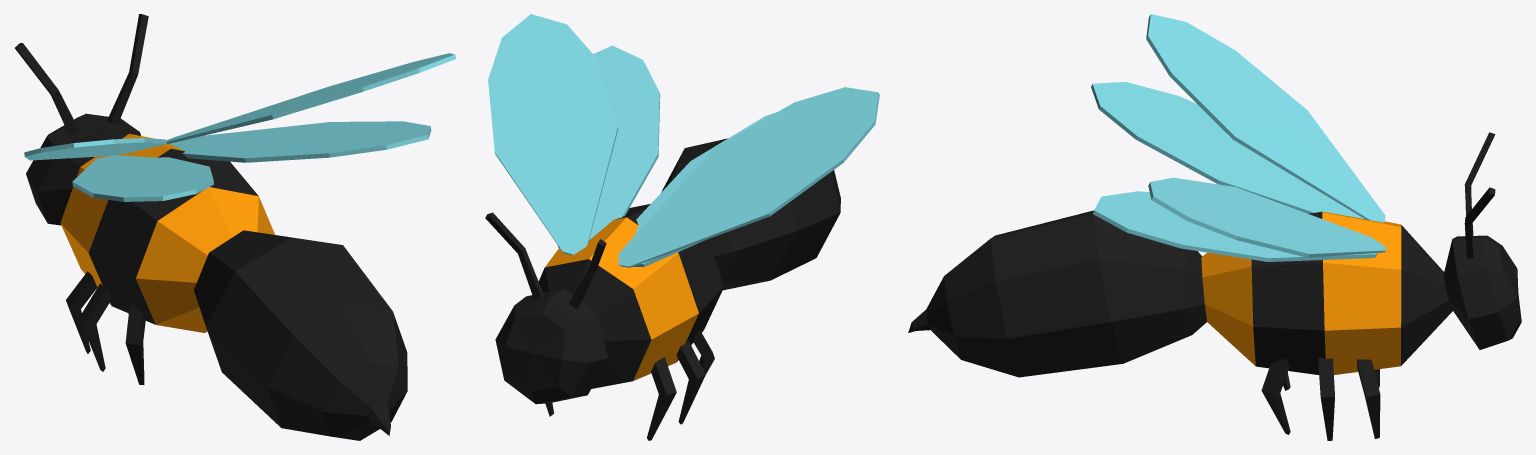
Rendered from Bee_01.fbx.
The picture shows the model from 3 angles, left to right: view 1: azimuth 30°, elevation 25°; view 2: azimuth 150°, elevation 25°; view 3: azimuth 270°, elevation 25°; orthographic projection. The views are drawn at different scales.
Visible parts, largest first — view 1: Bee_Circle; view 2: Bee_Circle; view 3: Bee_Circle.
Part boxes in pixels (x1,y1,x2,y2): Bee_Circle: (15, 14, 456, 440); Bee_Circle: (485, 14, 879, 440); Bee_Circle: (908, 14, 1521, 440).
Bounding box in the file's own units: 8.24 × 6.32 × 11.24.
